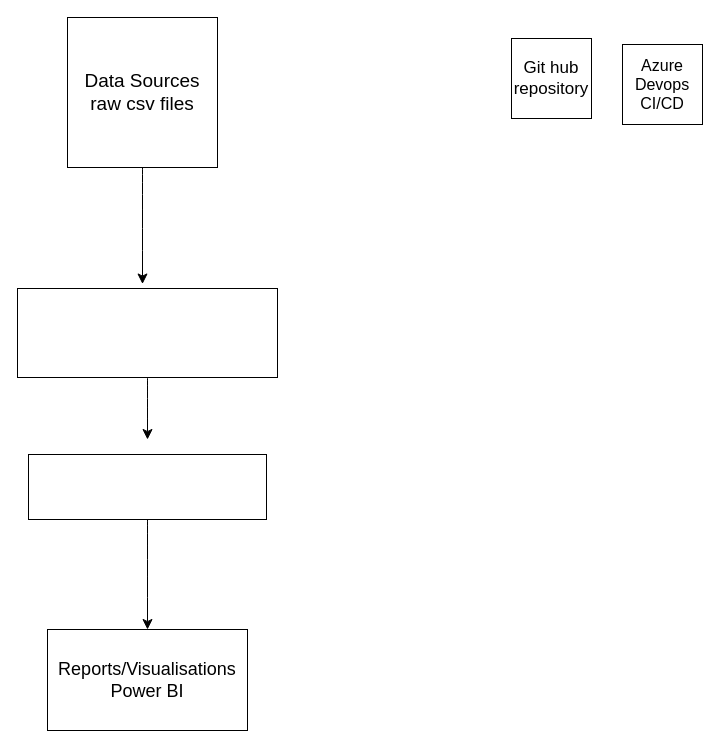
Image size: 720x748. Some labels were removed from this diagram. The centre of each missing label's shape, as x and y in pixels:
Data Storage Azure Blob Storage: point 147,487
Transformation python numpy, pandas: point 147,333
